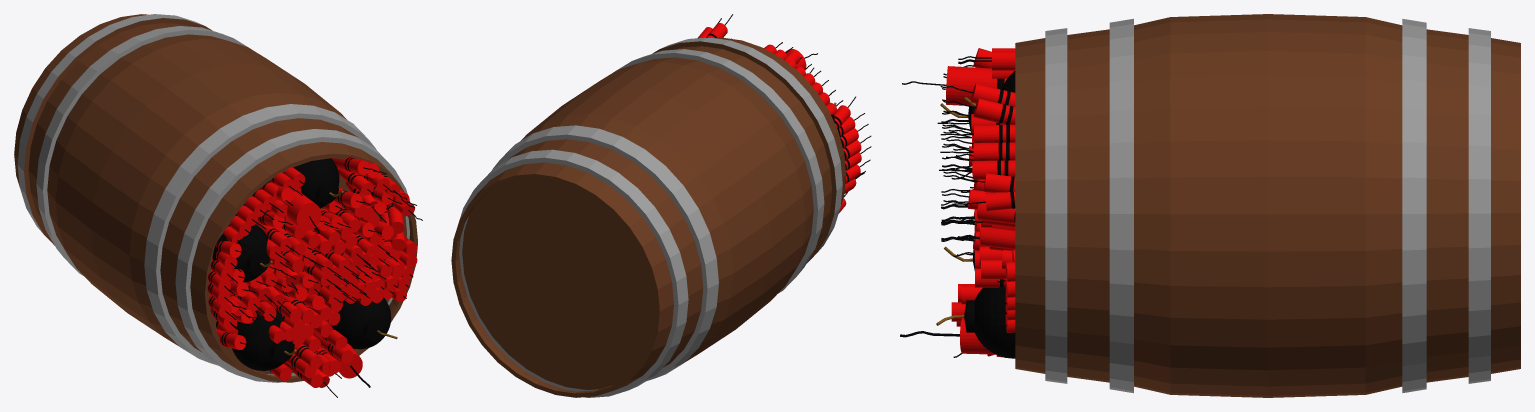
Rendered from TNTBARREL.fbx.
3 renders of one model, left to right at view 1: azimuth 30°, elevation 25°; view 2: azimuth 150°, elevation 25°; view 3: azimuth 270°, elevation 25°, orthographic. The views are drawn at different scales.
Visible parts, largest first — view 1: Cylinder, Dynamite.063, Dynamite.060, Dynamite.003, Dynamite.062, Dynamite.067, Dynamite.081, Dynamite.078, Dynamite.158, Dynamite.007, Dynamite.153, Dynamite.018 (+3 smaller); view 2: Cylinder; view 3: Cylinder, Dynamite.060, Dynamite.067, Dynamite.077, Dynamite.082, Dynamite.080, Dynamite.083, Dynamite.123, Dynamite.081, Dynamite.158, Dynamite.059, Dynamite.085 (+1 smaller).
Part boxes in pixels (left/top/right/bottom): Cylinder: left=14, top=14, right=417, bottom=382; Dynamite.063: left=232, top=309, right=296, bottom=370; Dynamite.060: left=330, top=297, right=397, bottom=349; Dynamite.003: left=293, top=158, right=343, bottom=208; Dynamite.062: left=212, top=224, right=272, bottom=282; Dynamite.067: left=282, top=191, right=321, bottom=230; Dynamite.081: left=331, top=156, right=369, bottom=175; Dynamite.078: left=337, top=169, right=373, bottom=195; Dynamite.158: left=329, top=343, right=362, bottom=378; Dynamite.007: left=256, top=223, right=291, bottom=251; Dynamite.153: left=313, top=332, right=353, bottom=363; Dynamite.018: left=216, top=329, right=246, bottom=349; Cylinder: left=451, top=37, right=846, bottom=397; Cylinder: left=1015, top=14, right=1520, bottom=397; Dynamite.060: left=936, top=286, right=1015, bottom=358; Dynamite.067: left=946, top=66, right=1006, bottom=106; Dynamite.077: left=973, top=98, right=1015, bottom=124; Dynamite.082: left=973, top=142, right=1015, bottom=160; Dynamite.080: left=974, top=124, right=1015, bottom=142; Dynamite.083: left=972, top=160, right=1015, bottom=179; Dynamite.123: left=980, top=227, right=1015, bottom=249; Dynamite.081: left=971, top=83, right=1015, bottom=106; Dynamite.158: left=960, top=318, right=995, bottom=354; Dynamite.059: left=977, top=201, right=1015, bottom=223; Dynamite.085: left=983, top=173, right=1015, bottom=192.
Size of the model in its own units: 236 by 236 by 381.
